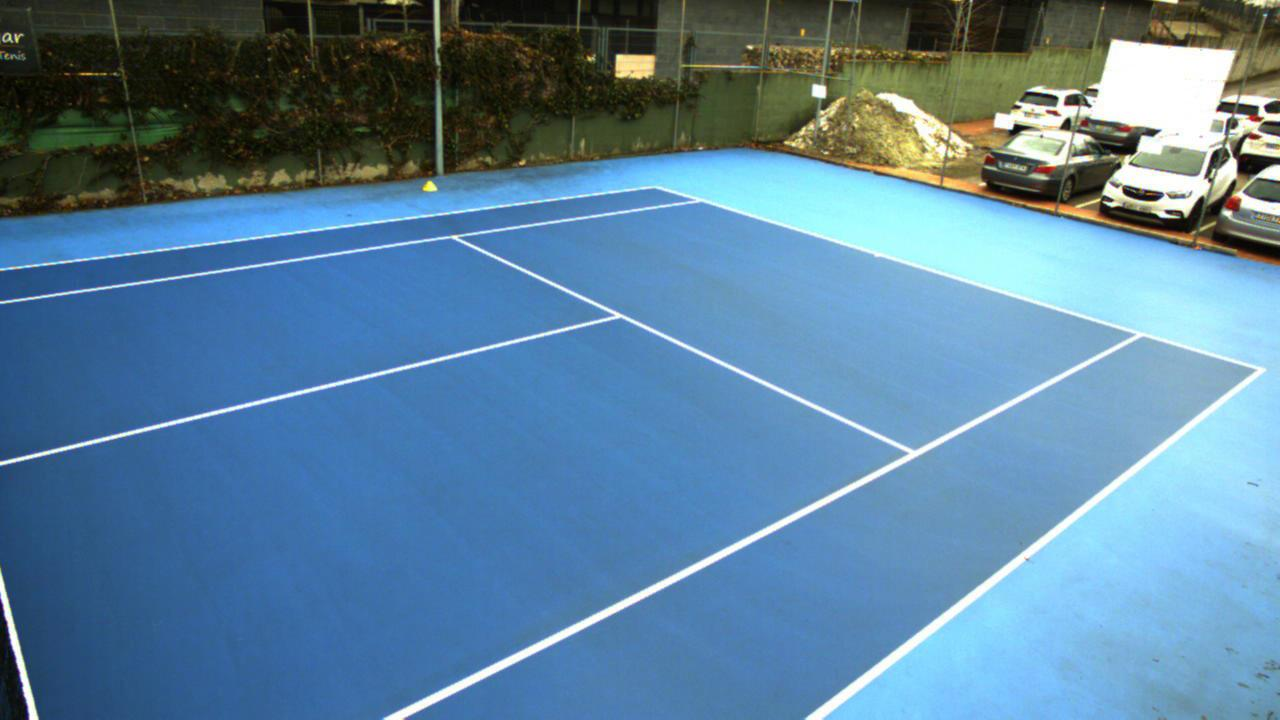cancha_tenis: (0, 200, 1145, 720)
point_f1: (687, 190, 710, 211)
point_f2: (1125, 323, 1151, 347)
point_fc1: (868, 248, 884, 262)
point_i1: (445, 228, 470, 249)
point_i2: (896, 441, 929, 468)
point_ic1: (599, 303, 635, 326)
